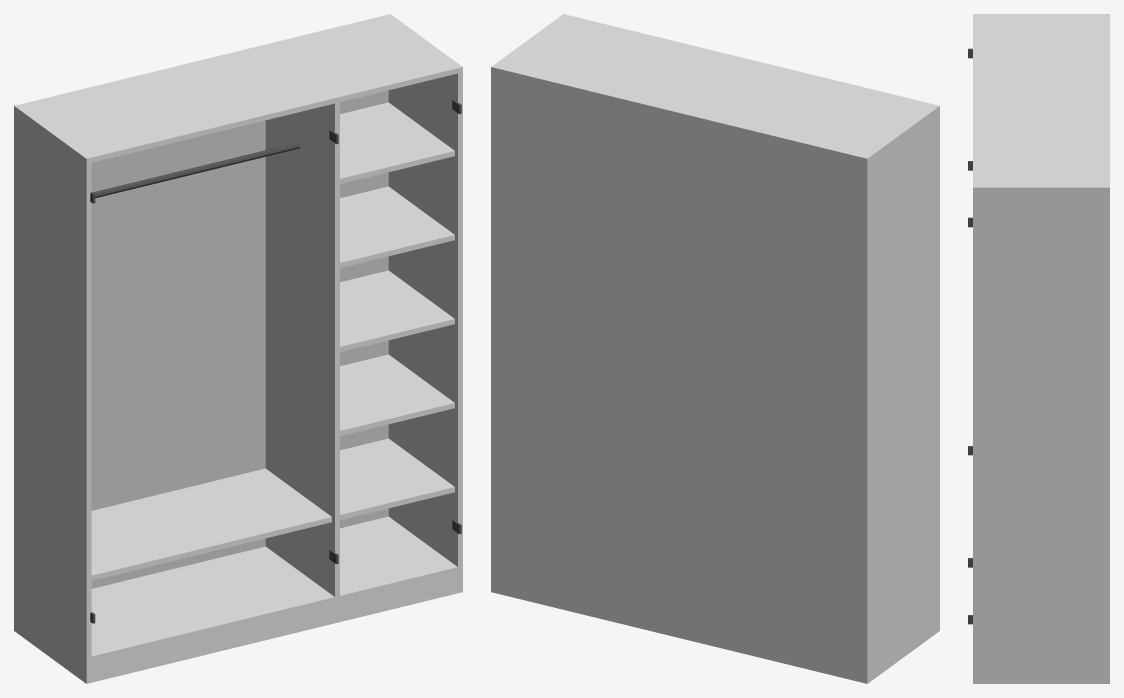
File: Wardrobe2_C1.fbx
The picture shows the model from 3 angles, left to right: view 1: azimuth 30°, elevation 25°; view 2: azimuth 150°, elevation 25°; view 3: azimuth 270°, elevation 25°; orthographic projection. The views are drawn at different scales.
Parts seen in each view (by area): view 1: Wardrobe2_C1; view 2: Wardrobe2_C1; view 3: Wardrobe2_C1.
Part boxes in pixels (x1=…): Wardrobe2_C1: x1=14, y1=14, x2=462, y2=683; Wardrobe2_C1: x1=491, y1=14, x2=939, y2=683; Wardrobe2_C1: x1=968, y1=14, x2=1109, y2=683.
Size of the model in its own units: 150 by 200 by 51.79.
